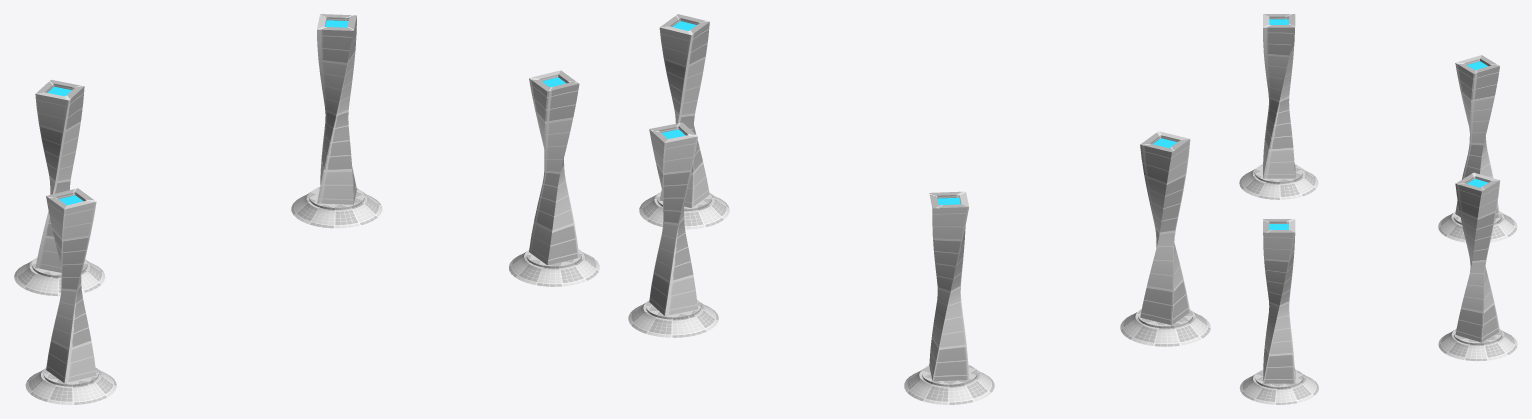
File: Tuto_Room_2.fbx
3 views of the same model, side by side, from view 1: azimuth 30°, elevation 25°; view 2: azimuth 150°, elevation 25°; view 3: azimuth 270°, elevation 25° (orthographic). The views are drawn at different scales.
Visible parts, largest first — view 1: Cylinder.002; view 2: Cylinder.002; view 3: Cylinder.002.
Part boxes in pixels (box(x1,y1,x2,y2)): Cylinder.002: box(14, 14, 599, 404); Cylinder.002: box(628, 14, 1210, 404); Cylinder.002: box(1239, 14, 1517, 404).
Bounding box in the file's own units: 3506 × 1113 × 1729.
